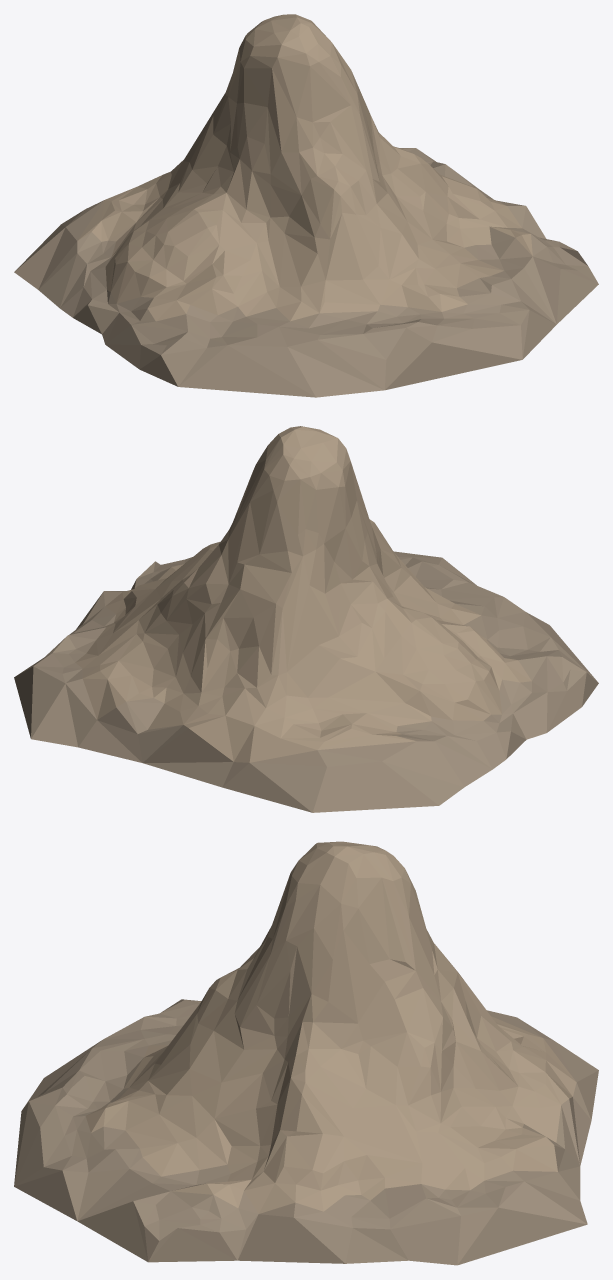
Rendered from SM_Env_Hill_03.fbx.
3 views of the same model, one above another, from view 1: azimuth 30°, elevation 25°; view 2: azimuth 150°, elevation 25°; view 3: azimuth 270°, elevation 25° (orthographic). The views are drawn at different scales.
Visible parts, largest first — view 1: SM_Env_Hill_03; view 2: SM_Env_Hill_03; view 3: SM_Env_Hill_03.
Part boxes in pixels (x1,y1,x2,y2): SM_Env_Hill_03: (14,14,598,397); SM_Env_Hill_03: (14,426,598,812); SM_Env_Hill_03: (14,841,598,1265).
Size of the model in its own units: 0.1115 by 0.0624 by 0.1121.
Materials: 1 (1 with a texture image).
